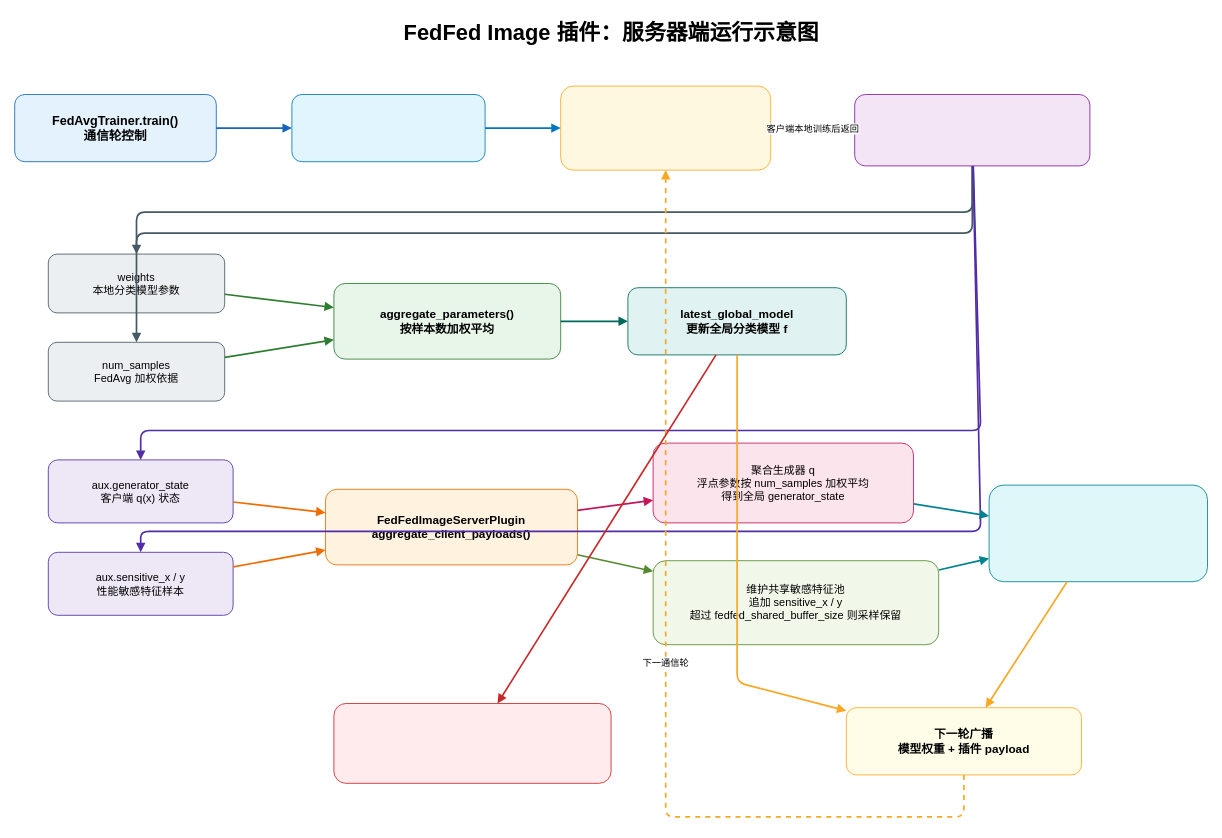
Some shapes in this 1222 by 838 pixel diagram are drawn without their labels. The box of each missing label's shape, as (x1, y1, x2, y2) in pixels:
build_broadcast_payload() round_index generator_state shared_x, shared_y: (988, 484, 1208, 582)
local_train() 下发 全局模型 weights 插件 payload: (560, 85, 771, 170)
select_clients() 每轮抽样客户端: (291, 94, 485, 162)
test_latest_model_on_testdata() 记录 final acc / best acc / loss 支持早停判断: (333, 703, 611, 783)
客户端返回 updates {weights, num_samples, aux}: (854, 94, 1090, 166)
